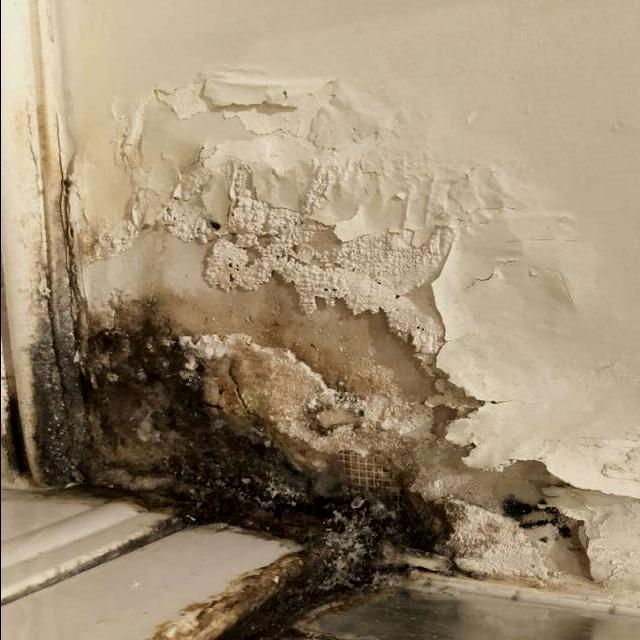dampness: (0, 77, 640, 636), (95, 269, 467, 531)
